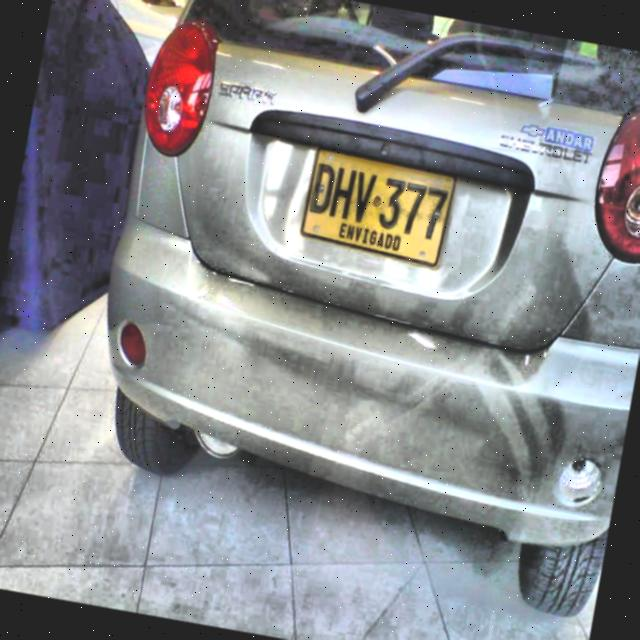3: (375, 175, 407, 233)
7: (396, 180, 428, 237), (418, 185, 449, 243)
D: (307, 161, 336, 216)
H: (327, 165, 358, 222)
V: (349, 170, 381, 224)
